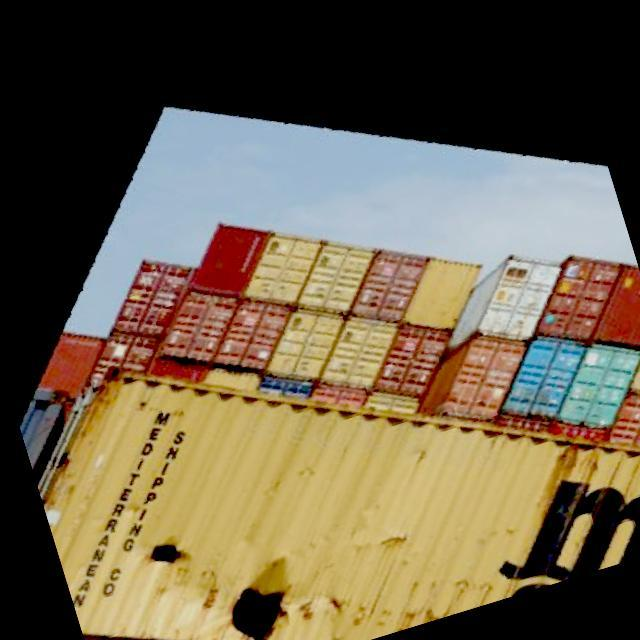hole: (207, 566, 319, 640), (123, 525, 209, 596)
rust: (324, 557, 495, 640)
